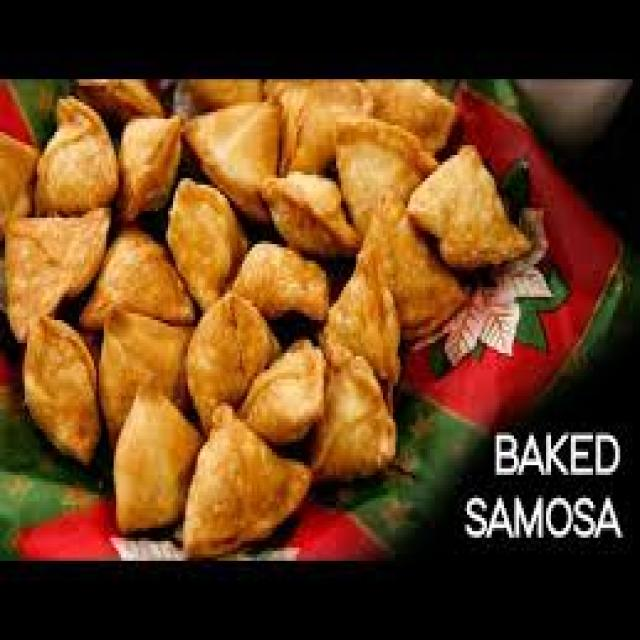SAMOSA: (185, 409, 309, 554), (363, 191, 465, 336), (408, 145, 529, 264), (5, 211, 109, 336), (99, 310, 193, 435), (188, 290, 279, 419), (119, 389, 200, 528), (82, 228, 193, 327), (311, 343, 393, 475), (25, 317, 99, 462), (336, 122, 435, 228), (188, 102, 277, 218), (166, 178, 245, 307), (264, 79, 371, 172), (326, 251, 398, 379), (37, 96, 116, 211), (237, 340, 324, 439), (230, 241, 326, 317), (262, 178, 356, 254), (121, 119, 180, 214)
